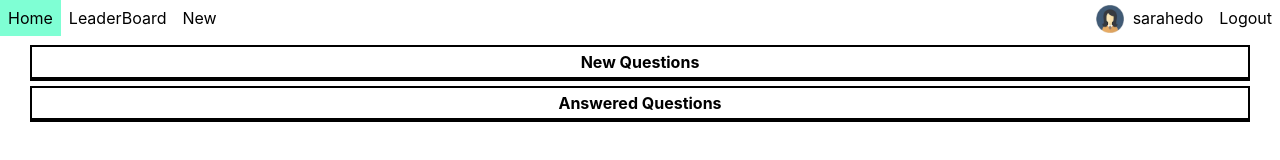
Test: The navbar works as expected › renders the leaderboard when clicking on the navbar link
Step 1. Click the link "LeaderBoard" → (118, 18), box [69,8,166,28]
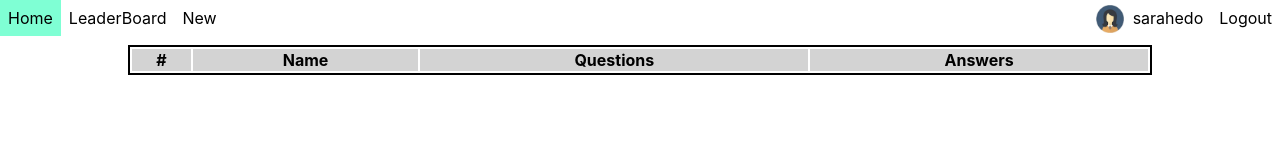
Now the table with test id "leaderboard" is shown, box [128,45,1152,75]
